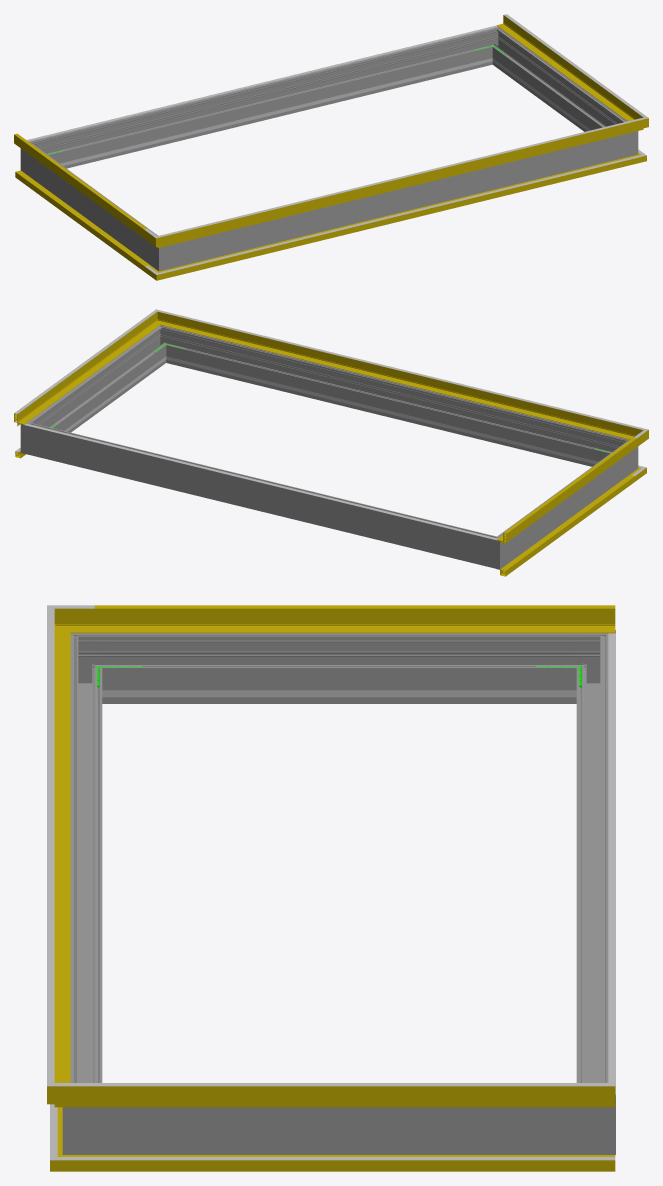
3 renders of one model, top to bottom at view 1: azimuth 30°, elevation 25°; view 2: azimuth 150°, elevation 25°; view 3: azimuth 270°, elevation 25°, orthographic. The views are drawn at different scales.
Parts seen in each view (by area): view 1: 3DGeom-276, 3DGeom-298, 3DGeom-56, 3DGeom-297, 3DGeom-11, 3DGeom-268, 3DGeom-58, 3DGeom-244, 3DGeom-50, 3DGeom-6, 3DGeom-220, 3DGeom-66 (+8 smaller); view 2: 3DGeom-298, 3DGeom-276, 3DGeom-56, 3DGeom-297, 3DGeom-268, 3DGeom-58, 3DGeom-239, 3DGeom-50, 3DGeom-6, 3DGeom-220, 3DGeom-66, 3DGeom-278 (+6 smaller); view 3: 3DGeom-268, 3DGeom-297, 3DGeom-50, 3DGeom-298, 3DGeom-276, 3DGeom-58, 3DGeom-56, 3DGeom-16, 3DGeom-220, 3DGeom-66, 3DGeom-232, 3DGeom-284 (+8 smaller).
Boxes of the visible parts, x1,y1,x2,y2 form: 3DGeom-276: (43, 31, 489, 168); 3DGeom-298: (179, 136, 617, 266); 3DGeom-56: (174, 123, 628, 243); 3DGeom-297: (494, 34, 622, 131); 3DGeom-11: (174, 158, 626, 275); 3DGeom-268: (32, 148, 153, 262); 3DGeom-58: (497, 15, 633, 120); 3DGeom-244: (67, 63, 472, 164); 3DGeom-50: (14, 134, 144, 238); 3DGeom-6: (15, 170, 149, 271); 3DGeom-220: (26, 25, 497, 141); 3DGeom-66: (175, 121, 627, 233); 3DGeom-298: (169, 329, 615, 466); 3DGeom-276: (41, 426, 482, 564); 3DGeom-56: (171, 316, 626, 437); 3DGeom-297: (36, 332, 164, 432); 3DGeom-268: (505, 447, 626, 560); 3DGeom-58: (14, 319, 154, 426); 3DGeom-239: (186, 361, 591, 463); 3DGeom-50: (497, 438, 636, 544); 3DGeom-6: (500, 475, 634, 576); 3DGeom-220: (24, 423, 497, 540); 3DGeom-66: (175, 314, 627, 425); 3DGeom-278: (479, 531, 511, 569); 3DGeom-268: (110, 633, 568, 703); 3DGeom-297: (110, 1107, 568, 1154); 3DGeom-50: (94, 608, 615, 633); 3DGeom-298: (70, 650, 102, 1082); 3DGeom-276: (576, 650, 608, 1082); 3DGeom-58: (94, 1086, 615, 1107); 3DGeom-56: (54, 641, 70, 1082); 3DGeom-16: (97, 1155, 615, 1171); 3DGeom-220: (608, 633, 615, 1094); 3DGeom-66: (47, 625, 54, 1066); 3DGeom-232: (148, 690, 530, 697); 3DGeom-284: (568, 1077, 615, 1154).
Bounding box in the file's own units: 3.66 × 0.307 × 1.83.
